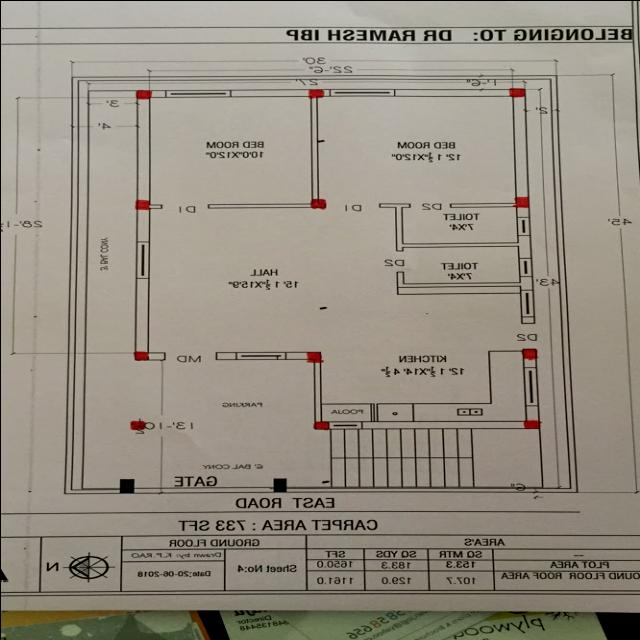Blueprint: (112, 81, 544, 438)
column: (506, 193, 536, 210), (300, 349, 330, 365), (514, 344, 542, 360), (130, 85, 154, 102), (126, 417, 150, 433), (504, 85, 532, 98), (304, 197, 332, 210), (308, 417, 333, 431), (131, 197, 155, 211), (302, 87, 328, 99), (518, 418, 544, 430), (130, 349, 154, 361)
wall: (134, 97, 150, 199), (359, 419, 522, 429), (133, 278, 149, 352), (515, 96, 525, 196), (393, 280, 518, 288), (394, 88, 511, 96), (401, 240, 516, 248), (230, 88, 310, 96), (312, 95, 318, 199), (450, 201, 516, 208), (206, 204, 310, 208), (136, 208, 148, 241), (393, 207, 402, 250), (516, 234, 532, 258), (314, 362, 320, 421), (524, 404, 538, 422), (518, 275, 532, 290), (377, 202, 411, 208), (214, 351, 237, 359), (284, 351, 306, 359), (515, 206, 529, 218), (146, 351, 164, 359), (520, 314, 534, 324), (148, 89, 164, 97), (395, 270, 402, 286)
